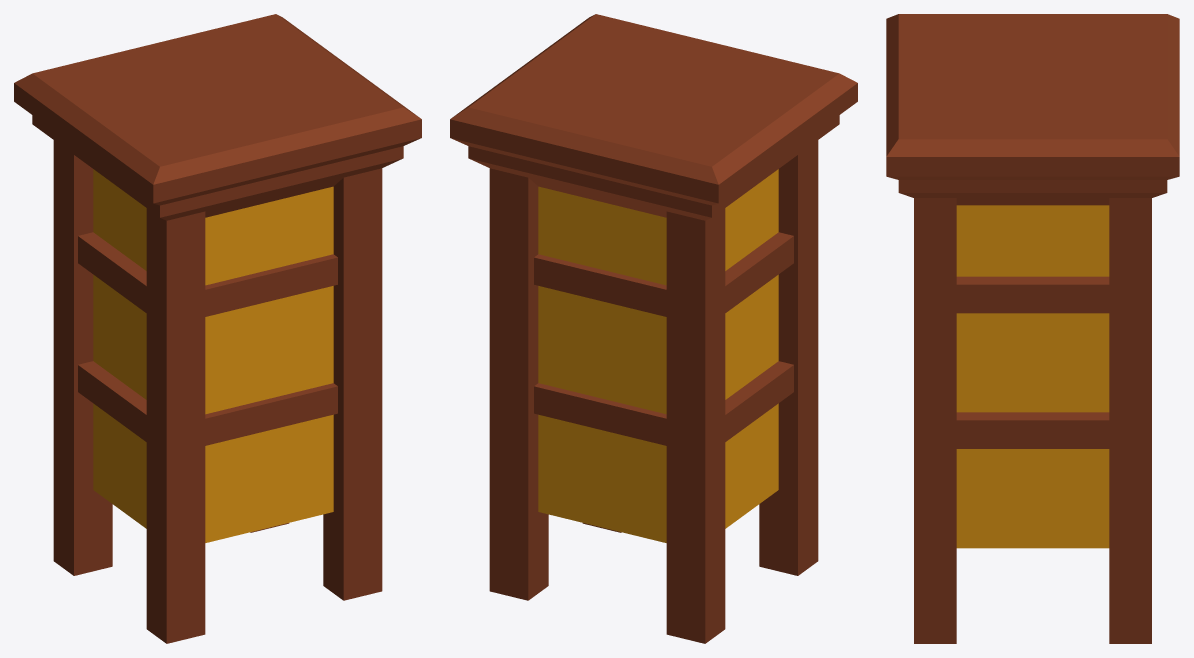
File: Lamp_02.FBX
3 views of the same model, side by side, from view 1: azimuth 30°, elevation 25°; view 2: azimuth 150°, elevation 25°; view 3: azimuth 270°, elevation 25° (orthographic). The views are drawn at different scales.
Parts seen in each view (by area): view 1: Lamp_02; view 2: Lamp_02; view 3: Lamp_02.
Part boxes in pixels (box(x1,y1,x2,y2)): Lamp_02: box(14, 14, 421, 643); Lamp_02: box(450, 14, 857, 643); Lamp_02: box(886, 14, 1179, 643).
Size of the model in its own units: 18.84 by 32.56 by 16.91.
